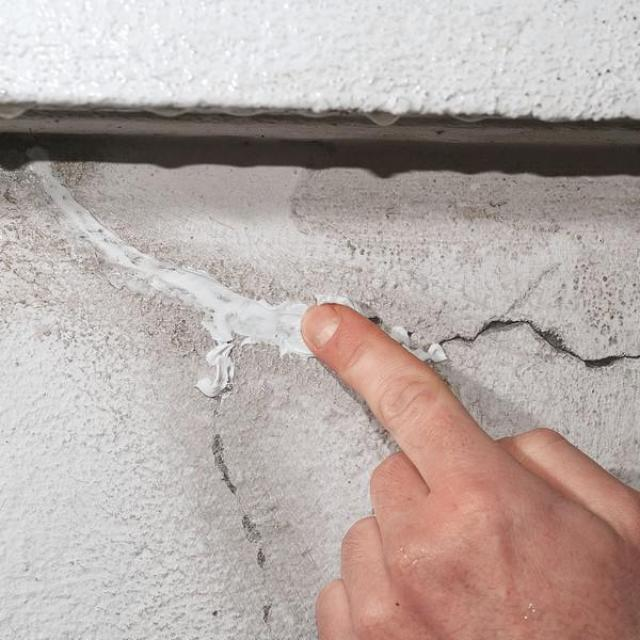crack: (434, 316, 639, 365), (241, 509, 268, 572), (213, 433, 239, 496)
